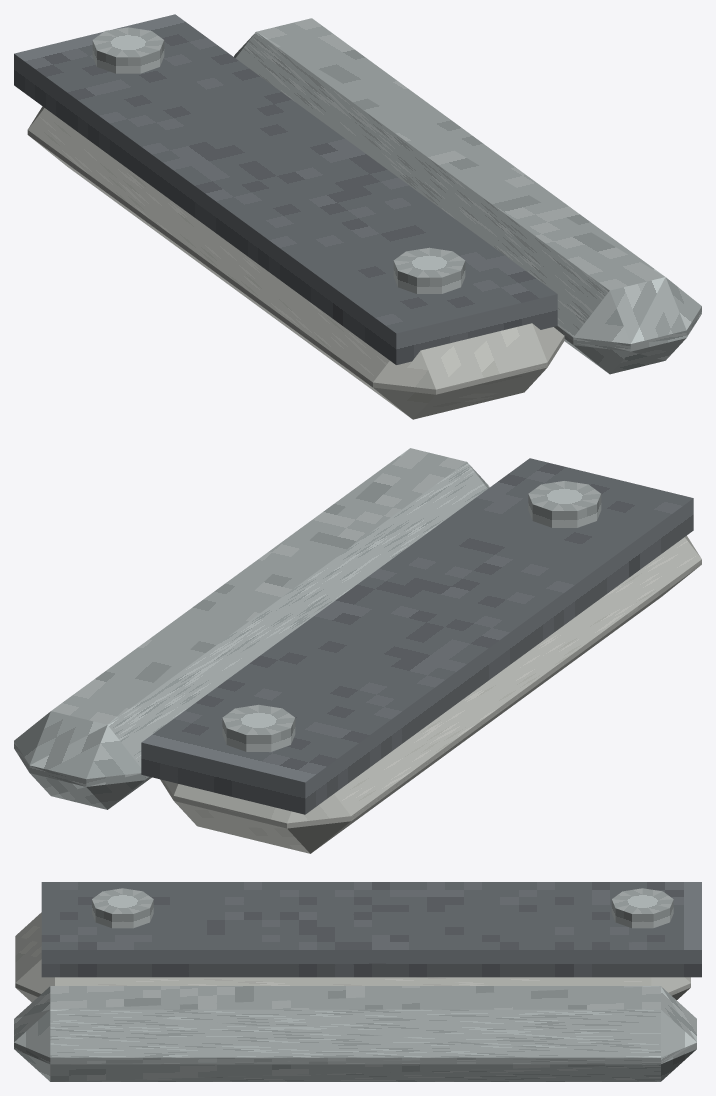
The model's file is multitool.glb.
The picture shows the model from 3 angles, top to bottom: view 1: azimuth 30°, elevation 25°; view 2: azimuth 150°, elevation 25°; view 3: azimuth 270°, elevation 25°; orthographic projection. The views are drawn at different scales.
Visible parts, largest first — view 1: block_folding tool liner, block_second folded handle, block_hand grip, block_folding pivot (×2); view 2: block_folding tool liner, block_second folded handle, block_hand grip, block_folding pivot (×2); view 3: block_second folded handle, block_folding tool liner, block_hand grip, block_folding pivot (×2).
Part boxes in pixels (left/top/right/bottom): block_folding tool liner: left=14, top=14, right=557, bottom=364; block_second folded handle: left=234, top=18, right=701, bottom=374; block_hand grip: left=27, top=106, right=564, bottom=419; block_folding pivot (×2): left=92, top=27, right=465, bottom=293; block_folding tool liner: left=141, top=458, right=693, bottom=814; block_second folded handle: left=14, top=448, right=489, bottom=809; block_hand grip: left=160, top=535, right=701, bottom=853; block_folding pivot (×2): left=222, top=481, right=601, bottom=751; block_second folded handle: left=14, top=986, right=696, bottom=1081; block_folding tool liner: left=41, top=882, right=701, bottom=977; block_hand grip: left=15, top=912, right=690, bottom=1002; block_folding pivot (×2): left=92, top=888, right=673, bottom=928.
Bounding box in the file's own units: 0.0567 × 0.019 × 0.12.
1 material, 1 textured.
